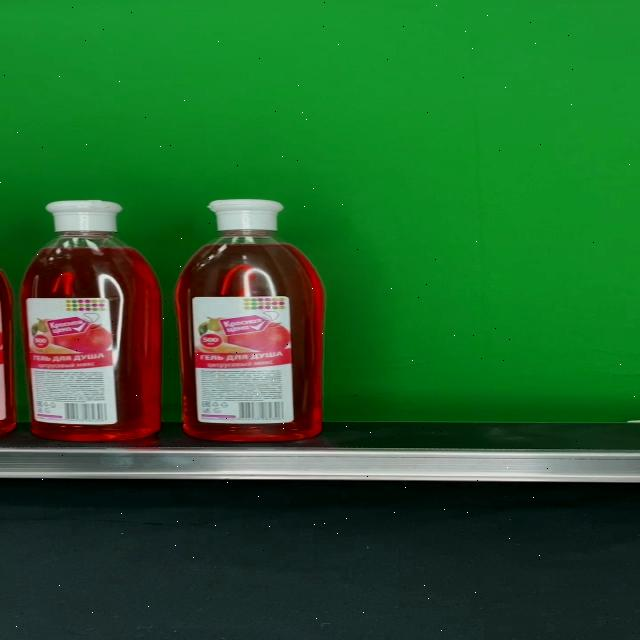Bottle: (174, 199, 326, 442), (20, 199, 162, 441)
Cap: (45, 200, 123, 232), (206, 200, 284, 232)
